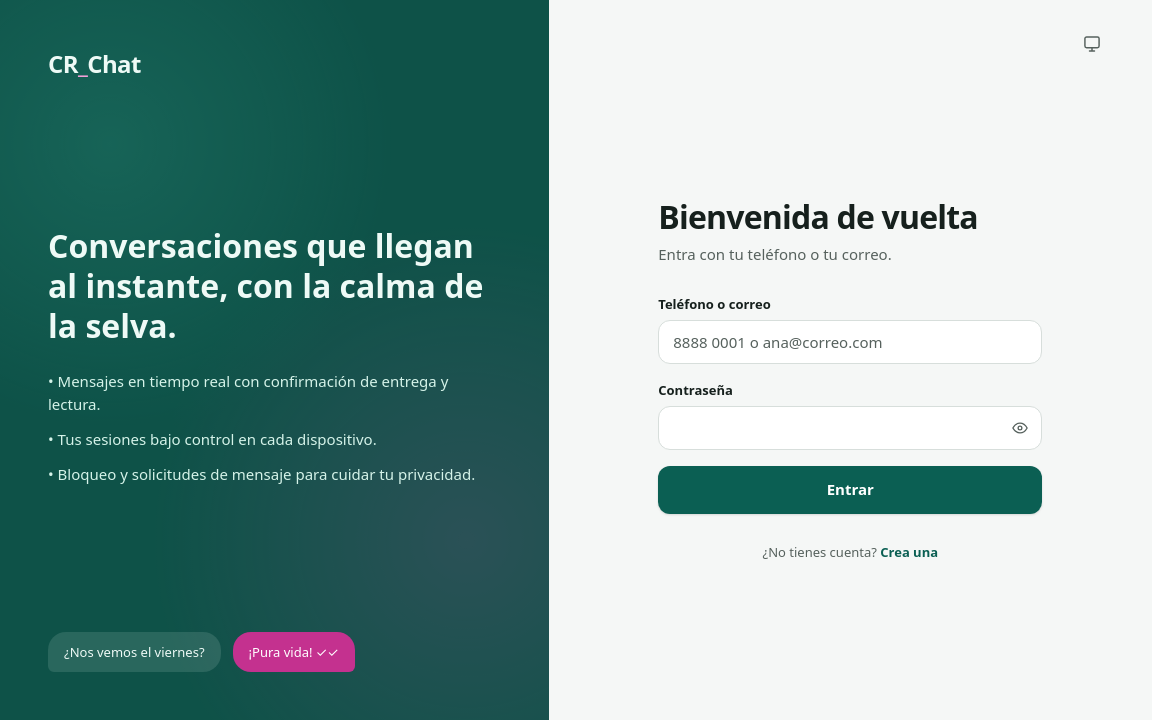
Test: acceso › valida campos vacíos y muestra el 401 de forma genérica
Click the button "Entrar" at point(850, 490), box [658,466,1042,514]
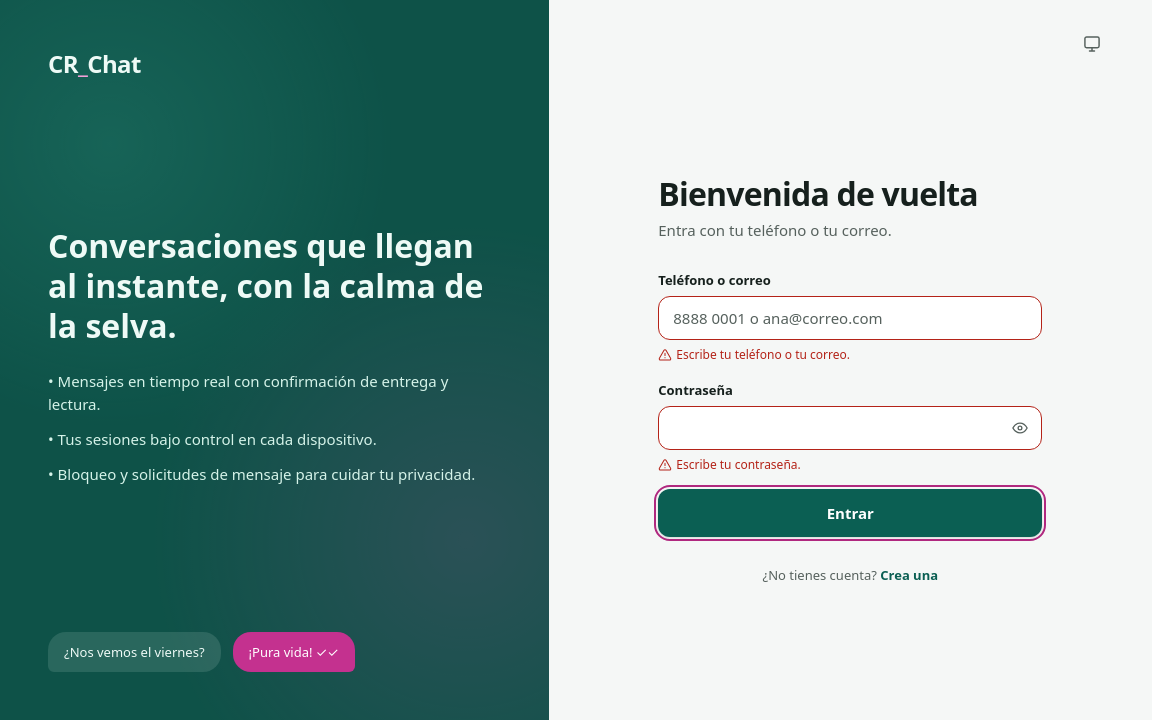
Type "70000001" into the field labelled "Teléfono o correo" at point(850, 318), box [658,296,1042,340]
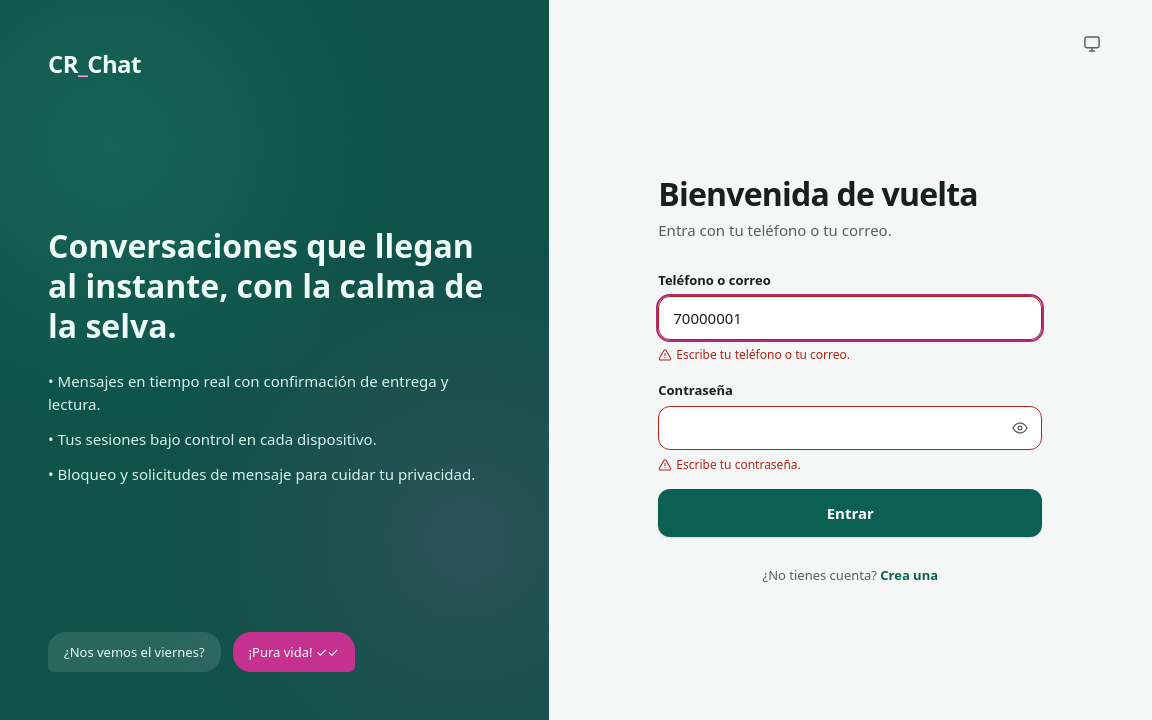
Type "incorrecta" into the password field labelled "Contraseña" at point(850, 428), box [658,406,1042,450]
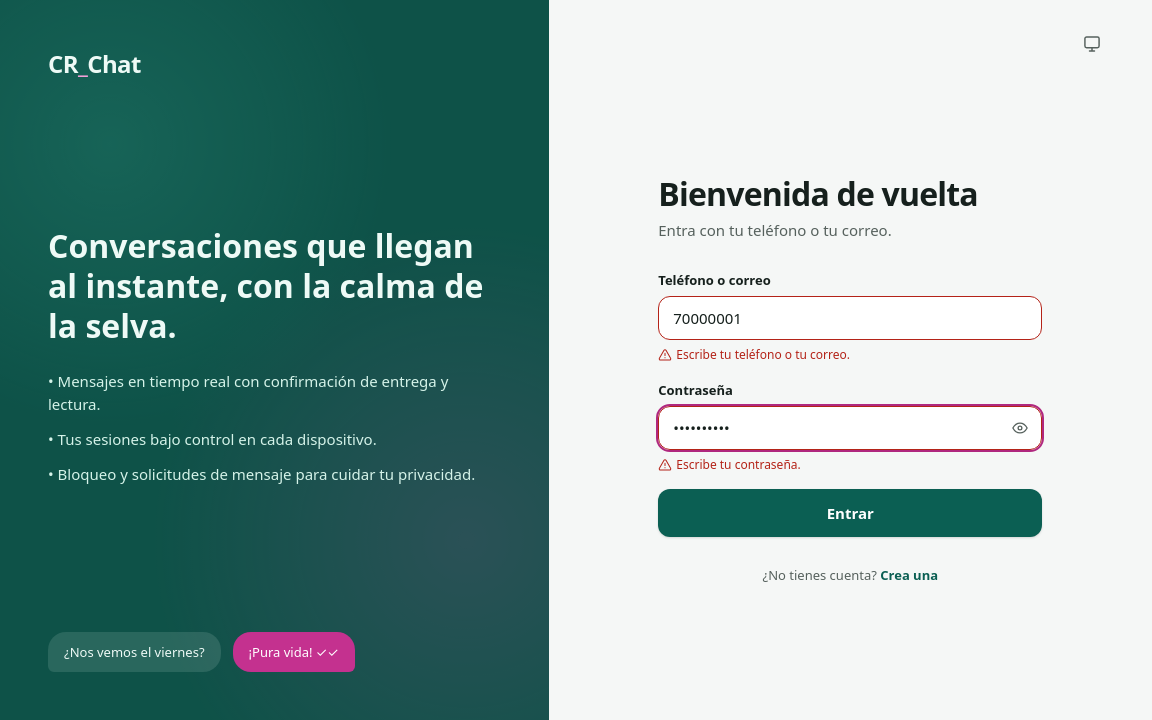
Click the button "Entrar" at point(850, 513), box [658,489,1042,537]
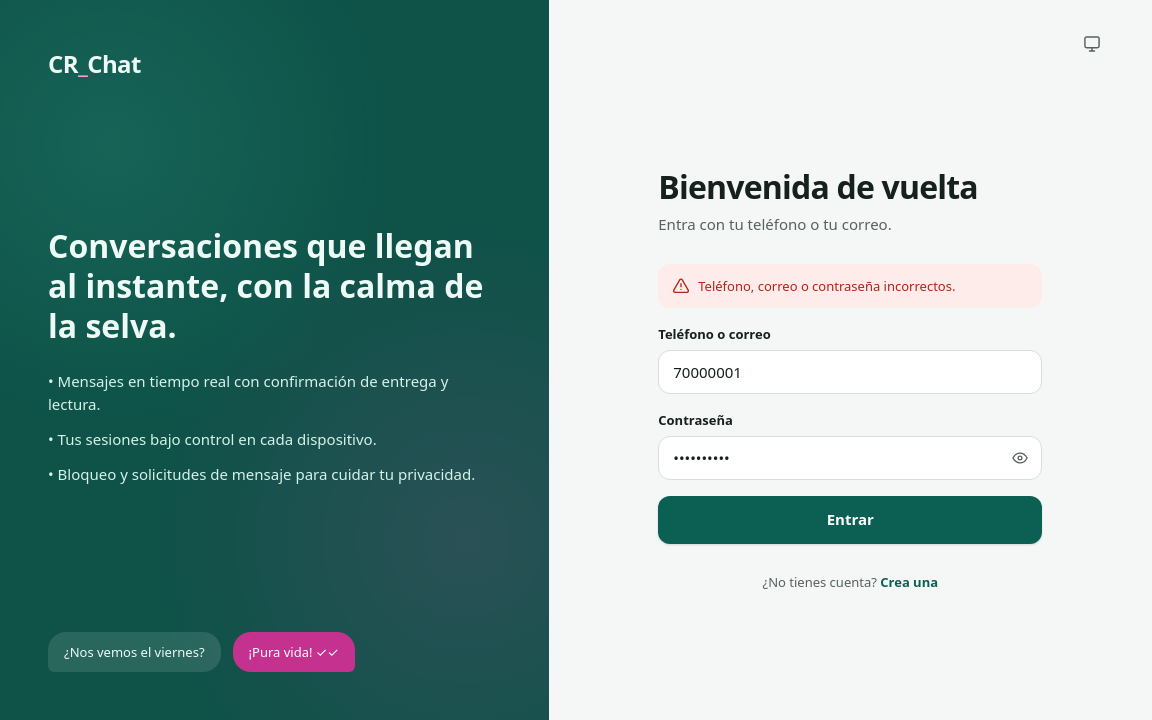
Now the message reads "Teléfono, correo o contraseña incorrectos.", box [698,277,956,295]
